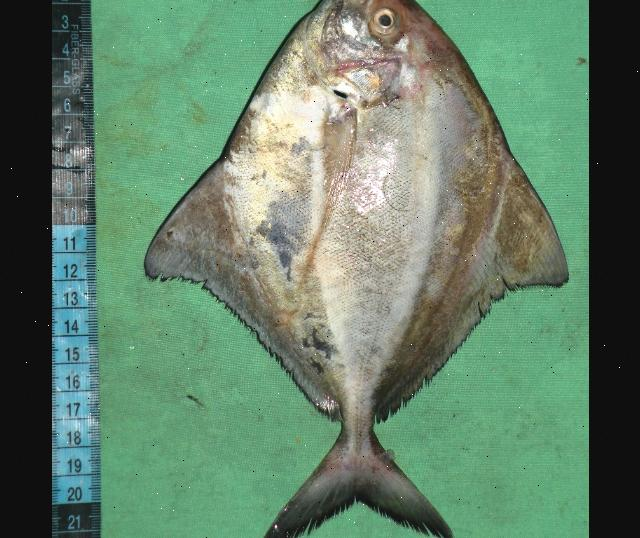Mulut: (307, 0, 402, 23)
Sirip Anal: (248, 291, 346, 425)
Sirip Dada: (272, 82, 374, 306)
Sirip Ekor: (242, 420, 464, 538)
Sirip Perut: (126, 127, 248, 334)
Sirip Punggung: (368, 141, 578, 429)
